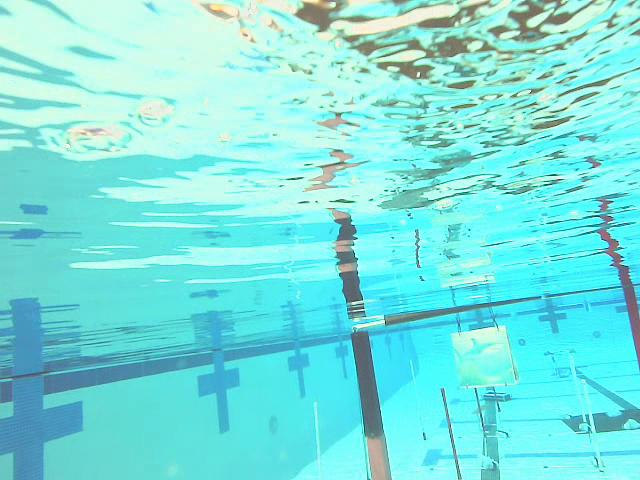black_poster: (439, 388, 462, 479), (472, 389, 487, 437), (490, 387, 503, 411)
divider: (622, 281, 639, 367)
left_gate_poster: (350, 331, 394, 479)
shark: (451, 325, 518, 388)
white_poster: (579, 378, 605, 473), (409, 357, 429, 443), (568, 356, 587, 422), (311, 402, 323, 479)
